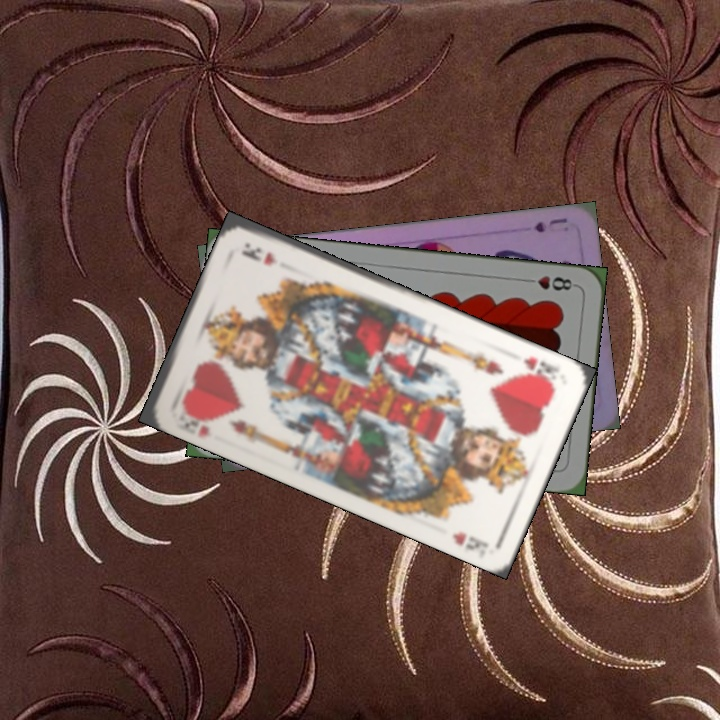H8: (520, 272, 579, 293)
HK: (177, 401, 217, 440), (520, 352, 562, 387)
SU: (529, 213, 570, 235)
